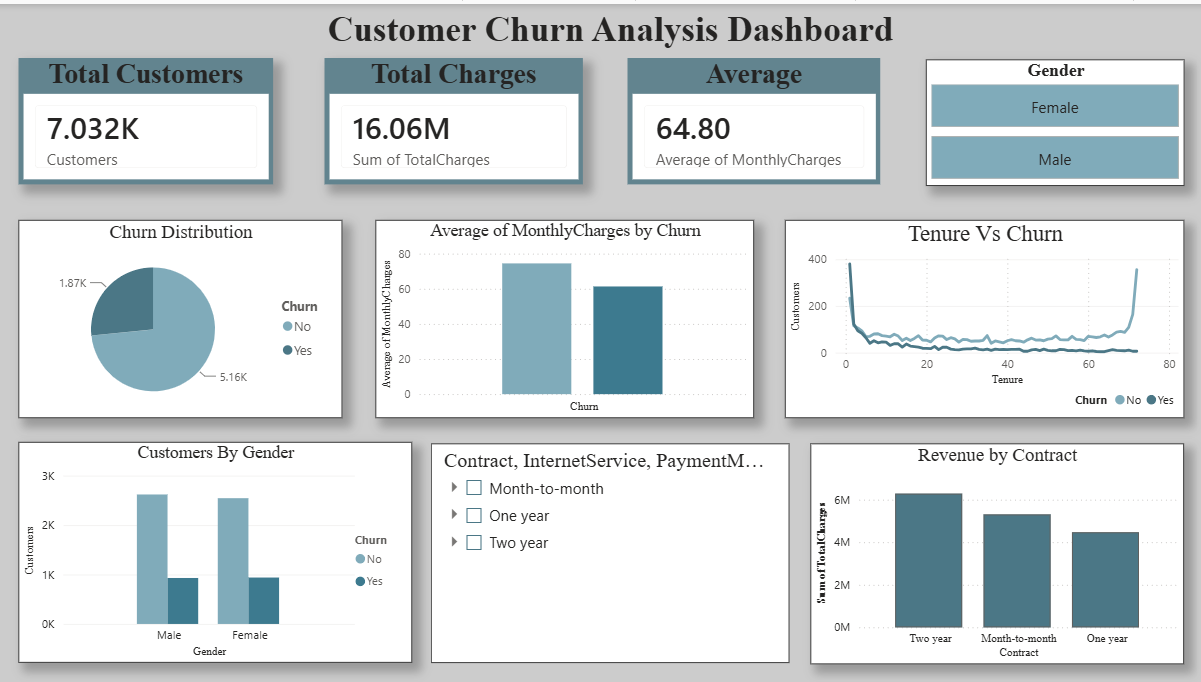

Layout of this report page (visuals, bound fields, positions):
{"tool":"powerbi","page":{"name":"Report","canvas":[1280,720],"ordinal":1},"visuals":[{"type":"textbox","box":[24,0,1256,56],"z":0},{"type":"cardVisual","title":"Total Charges","fields":{"Data":["Sum(WA_Fn-UseC_-Telco-Customer-Chur.TotalCharges)"]},"box":[348,58,274,134],"z":1000},{"type":"cardVisual","title":"Total Customers","fields":{"Data":["Count(WA_Fn-UseC_-Telco-Customer-Chur.customerID)"]},"box":[24,58,270,134],"z":2000},{"type":"cardVisual","title":"Average","fields":{"Data":["Avg(WA_Fn-UseC_-Telco-Customer-Chur.MonthlyCharges)"]},"box":[670,58,268,134],"z":3000},{"type":"pieChart","title":"Churn Distribution","fields":{"Y":["Count(WA_Fn-UseC_-Telco-Customer-Chur.customerID)"],"Category":["WA_Fn-UseC_-Telco-Customer-Chur.Churn"]},"box":[23.3,228.3,343.3,210],"z":4000},{"type":"clusteredColumnChart","fields":{"Category":["WA_Fn-UseC_-Telco-Customer-Chur.Churn"],"Y":["Avg(WA_Fn-UseC_-Telco-Customer-Chur.MonthlyCharges)"]},"box":[402.9,228.6,401.4,210],"z":5000},{"type":"lineChart","title":"Tenure Vs Churn","fields":{"Category":["WA_Fn-UseC_-Telco-Customer-Chur.tenure"],"Y":["CountNonNull(WA_Fn-UseC_-Telco-Customer-Chur.customerID)"],"Series":["WA_Fn-UseC_-Telco-Customer-Chur.Churn"]},"box":[836.7,228.3,423.3,210],"z":6000},{"type":"clusteredColumnChart","title":"Customers By Gender","fields":{"Category":["WA_Fn-UseC_-Telco-Customer-Chur.gender"],"Y":["CountNonNull(WA_Fn-UseC_-Telco-Customer-Chur.customerID)"],"Series":["WA_Fn-UseC_-Telco-Customer-Chur.Churn"]},"box":[24.3,464.3,417.1,234.3],"z":7000},{"type":"advancedSlicerVisual","title":"Gender","fields":{"Values":["WA_Fn-UseC_-Telco-Customer-Chur.gender"]},"box":[985.7,58.6,274.3,134.3],"z":8000},{"type":"columnChart","title":"Revenue by Contract","fields":{"Category":["WA_Fn-UseC_-Telco-Customer-Chur.Contract"],"Y":["Sum(WA_Fn-UseC_-Telco-Customer-Chur.TotalCharges)"]},"box":[864.3,465.7,395.7,234.3],"z":9000},{"type":"slicer","fields":{"Values":["WA_Fn-UseC_-Telco-Customer-Chur.Contract","WA_Fn-UseC_-Telco-Customer-Chur.InternetService","WA_Fn-UseC_-Telco-Customer-Chur.PaymentMethod","WA_Fn-UseC_-Telco-Customer-Chur.SeniorCitizen","WA_Fn-UseC_-Telco-Customer-Chur.TechSupport","WA_Fn-UseC_-Telco-Customer-Chur.OnlineSecurity"]},"box":[461.4,465.7,380,232.9],"z":10000}]}

Visuals, with their boxes in screenshot pixels (x1, y1, x2, y2), scaled from the page's 1280x720 canvas onto the 1201x682 screenshot:
textbox: detection(23, 0, 1200, 53)
"Total Charges" cardVisual: detection(327, 55, 584, 182)
"Total Customers" cardVisual: detection(23, 55, 276, 182)
"Average" cardVisual: detection(629, 55, 880, 182)
"Churn Distribution" pieChart: detection(22, 216, 344, 415)
clusteredColumnChart - WA_Fn-UseC_-Telco-Customer-Chur.Churn x Avg(WA_Fn-UseC_-Telco-Customer-Chur.MonthlyCharges): detection(378, 217, 755, 415)
"Tenure Vs Churn" lineChart: detection(785, 216, 1182, 415)
"Customers By Gender" clusteredColumnChart: detection(23, 440, 414, 662)
"Gender" advancedSlicerVisual: detection(925, 56, 1182, 183)
"Revenue by Contract" columnChart: detection(811, 441, 1182, 663)
slicer - WA_Fn-UseC_-Telco-Customer-Chur.Contract x WA_Fn-UseC_-Telco-Customer-Chur.InternetService: detection(433, 441, 789, 662)
